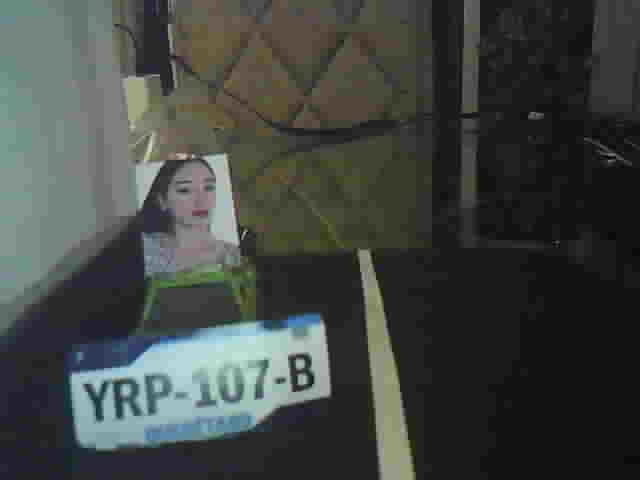PLACA: (65, 310, 333, 454)
ROSTRO: (146, 157, 226, 275)
